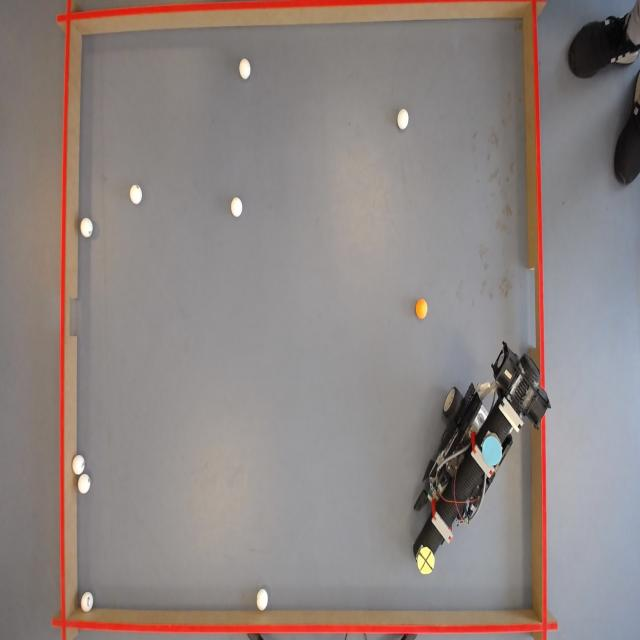orange: (416, 300, 430, 320)
robot: (409, 344, 550, 574)
robot-front: (417, 548, 435, 576)
robot-rear: (482, 437, 502, 470)
white: (255, 589, 269, 612), (239, 58, 253, 80), (80, 216, 94, 238), (130, 183, 144, 205), (396, 108, 409, 130), (72, 454, 86, 474), (77, 475, 90, 496), (80, 592, 93, 613), (232, 197, 244, 218)
